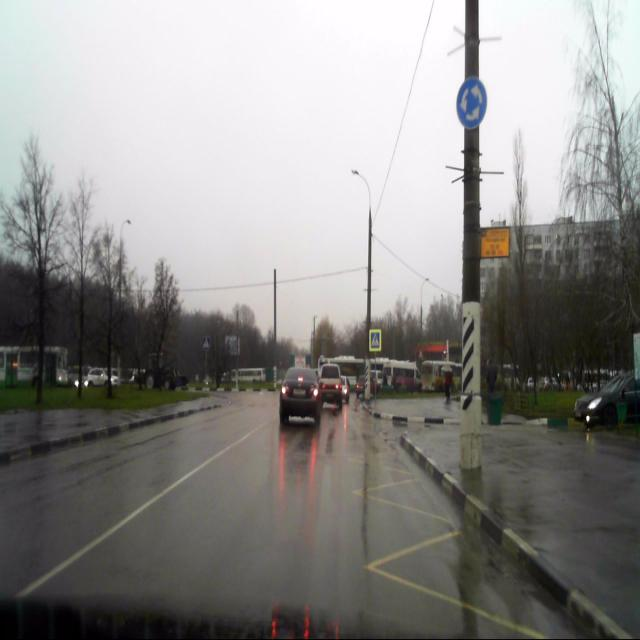road sign: (369, 329, 380, 351)
